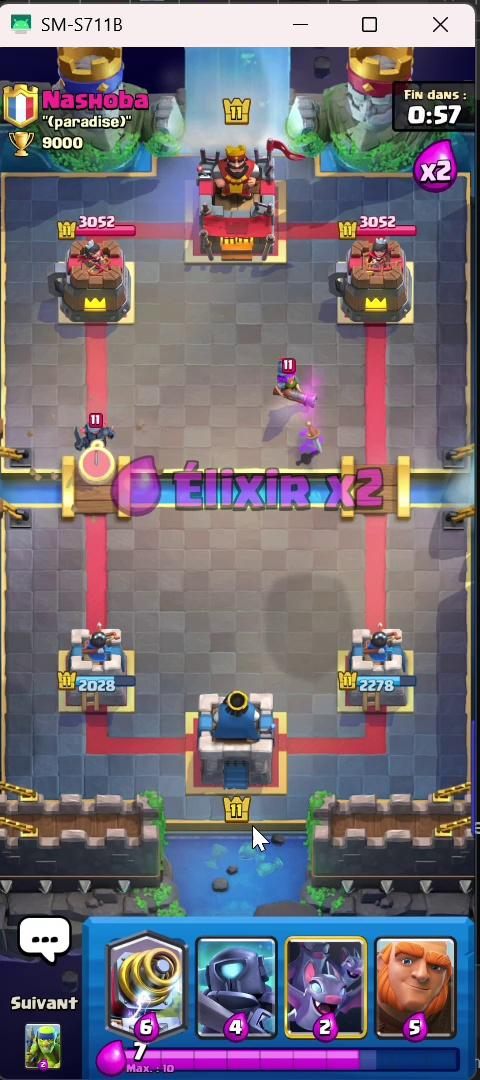mini_PEKKA: (77, 397, 123, 466)
mousquetaire: (253, 338, 320, 419)
